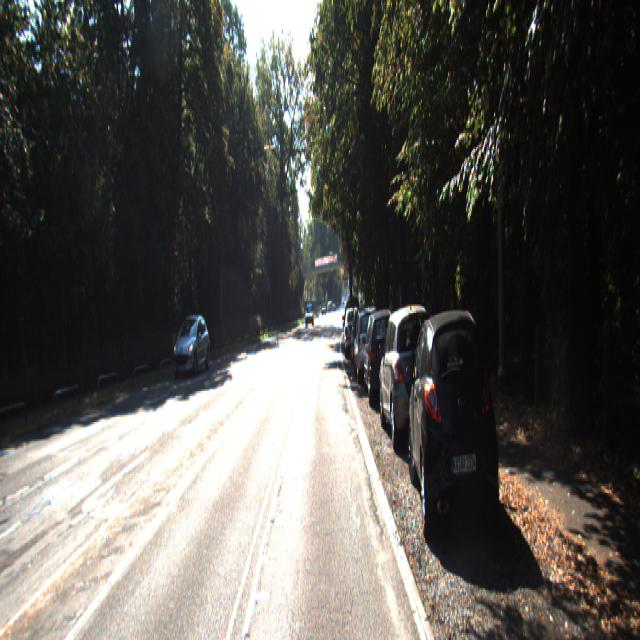Car: (406, 304, 504, 549), (378, 301, 443, 450), (363, 304, 401, 402), (172, 312, 210, 376), (353, 304, 384, 382), (344, 306, 362, 356)
